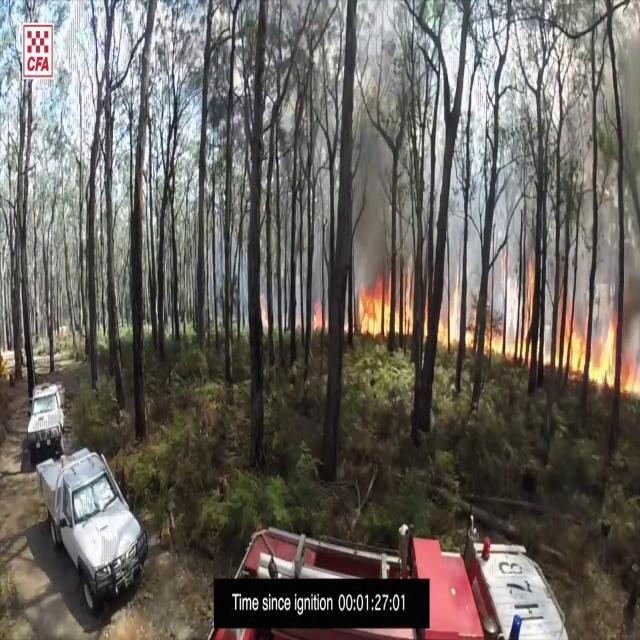Fire: (565, 299, 640, 401), (354, 278, 394, 344), (441, 295, 474, 354)
Smoke: (344, 77, 408, 266), (585, 21, 640, 218)
